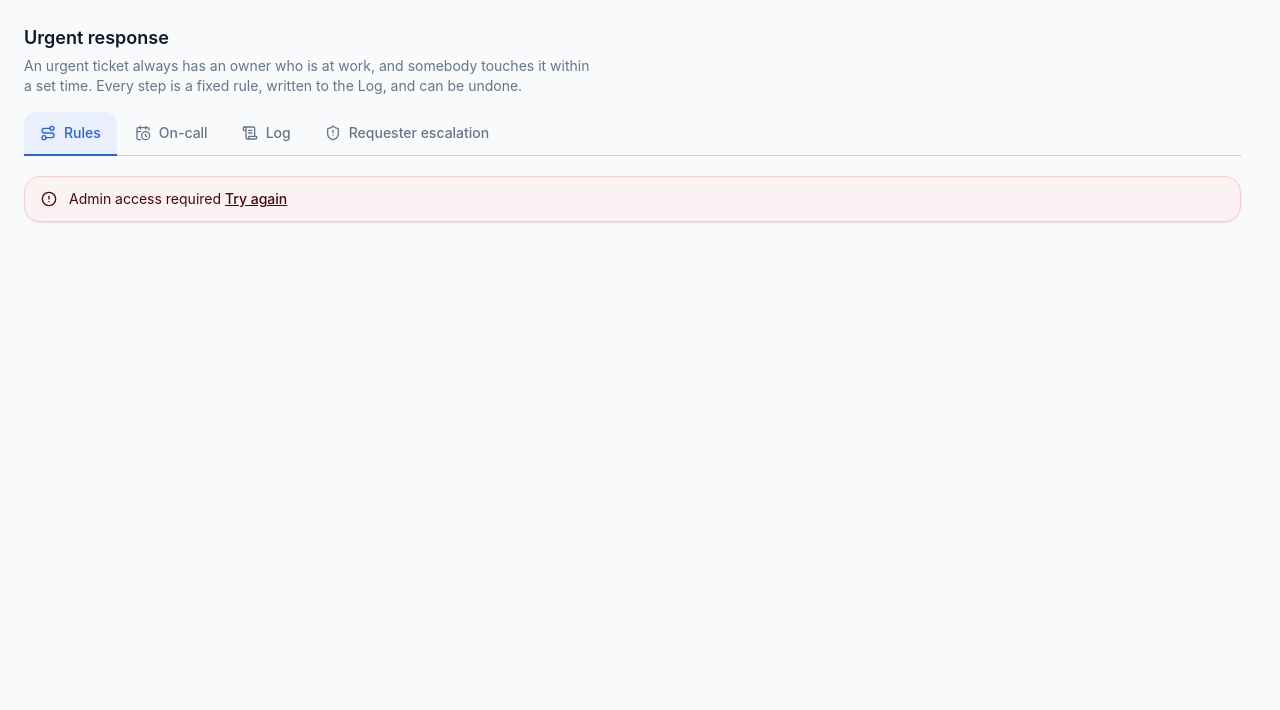
it: Urgent response panel › a settings load that fails says so and can be retried
Check: the text "Admin access required Try again" is shown, box [69,189,287,209]
Click the button "Try again" at (256, 199), box [225,189,287,209]
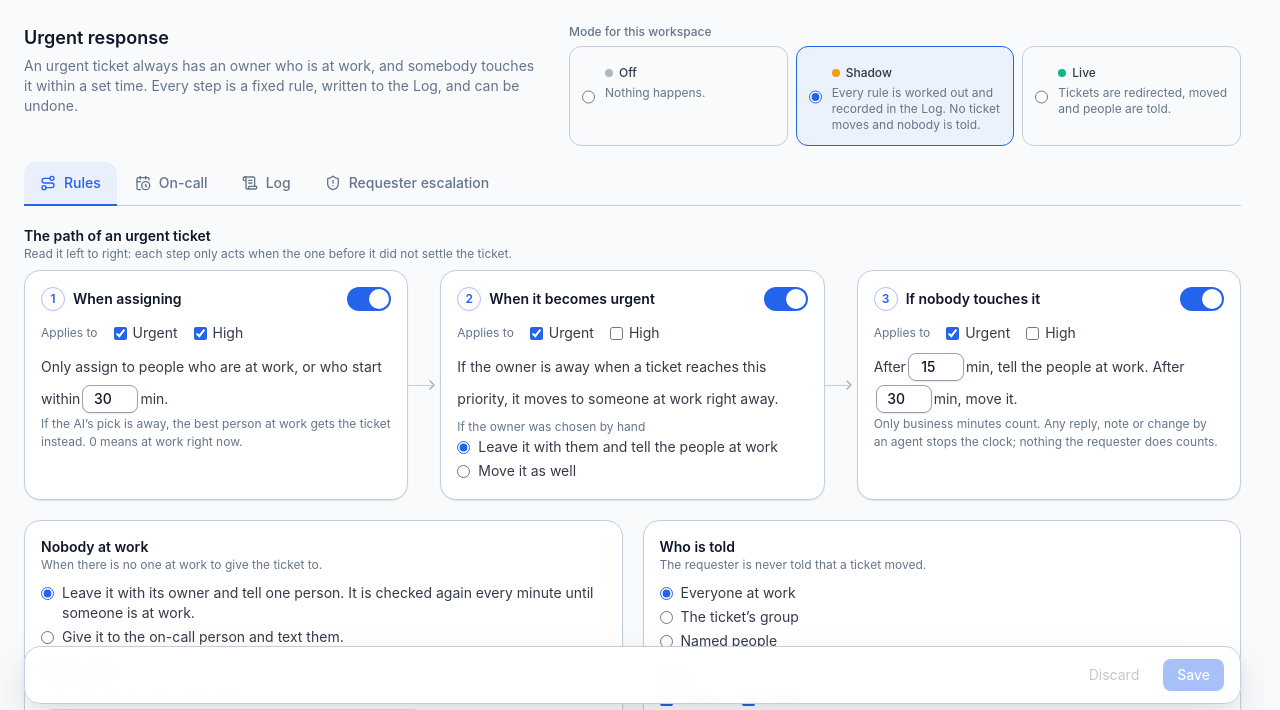
Check: the element "The path of an urgent ticket" is shown, box [24,226,1241,500]
